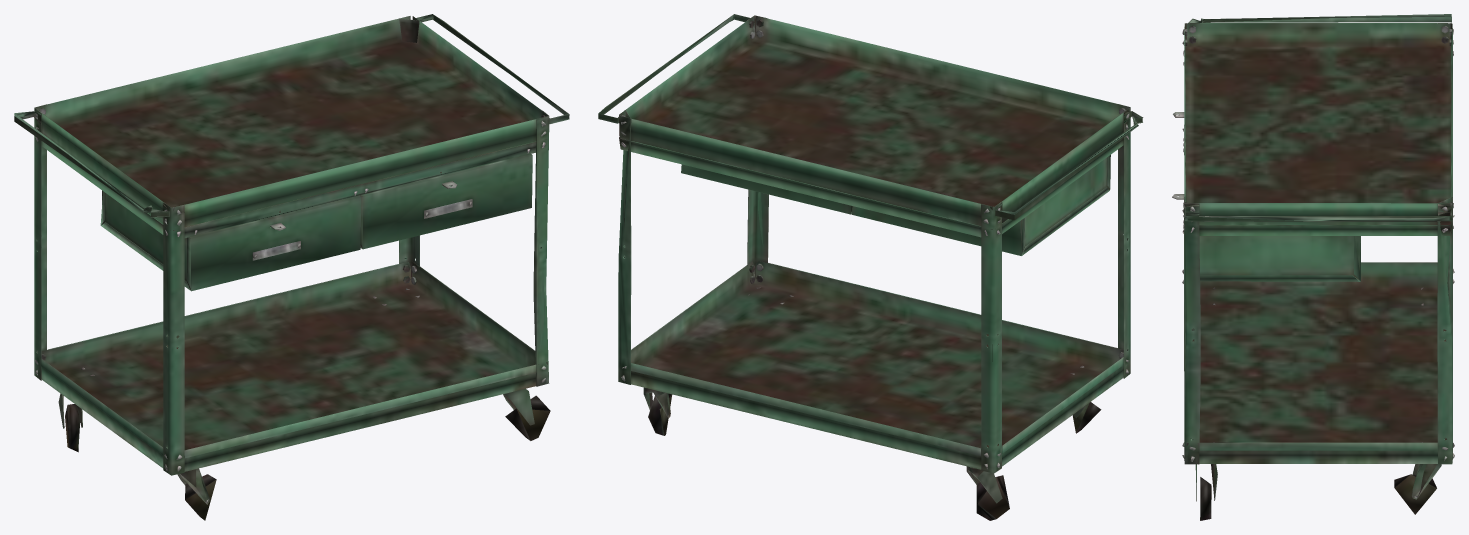
The model's file is tool_cart.glb.
3 views of the same model, side by side, from view 1: azimuth 30°, elevation 25°; view 2: azimuth 150°, elevation 25°; view 3: azimuth 270°, elevation 25° (orthographic). The views are drawn at different scales.
Parts seen in each view (by area): view 1: tool_cart; view 2: tool_cart; view 3: tool_cart.
Part boxes in pixels (<box>): tool_cart: <box>14,14,569,520</box>; tool_cart: <box>598,14,1143,520</box>; tool_cart: <box>1172,14,1454,520</box>.
Bounding box in the file's own units: 1.26 × 0.9619 × 0.7521.
Materials: 1 (1 with a texture image).
